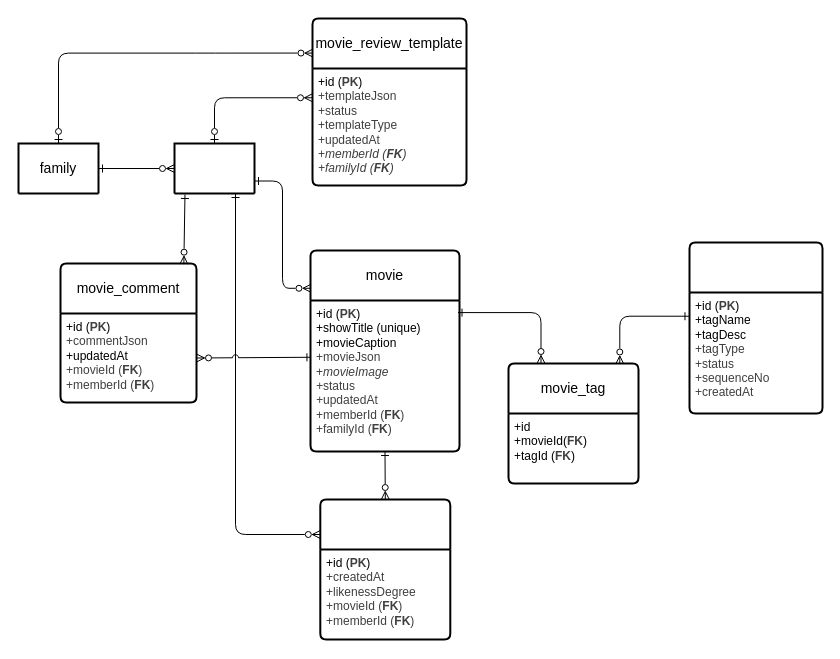
This 840x659 diagram has some shape labels left out. Each missing label, with the box of its shape:
member: (173, 142, 255, 194)
movie_like: (319, 498, 451, 640)
movie_tag-reference: (688, 241, 823, 414)
